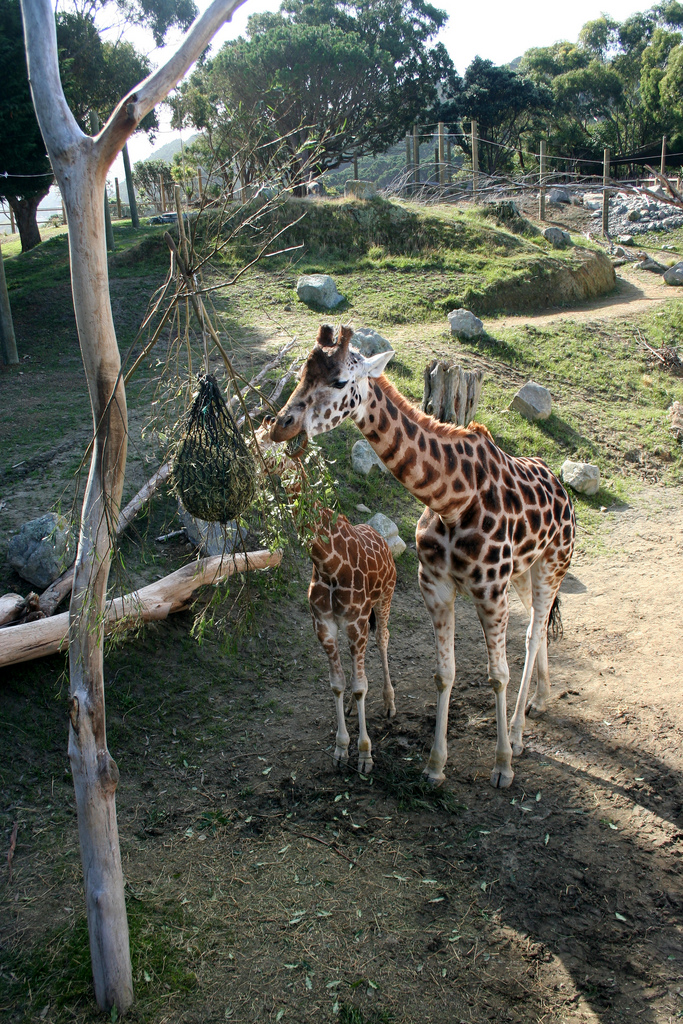giraffe: (273, 317, 598, 765), (237, 424, 402, 811)
